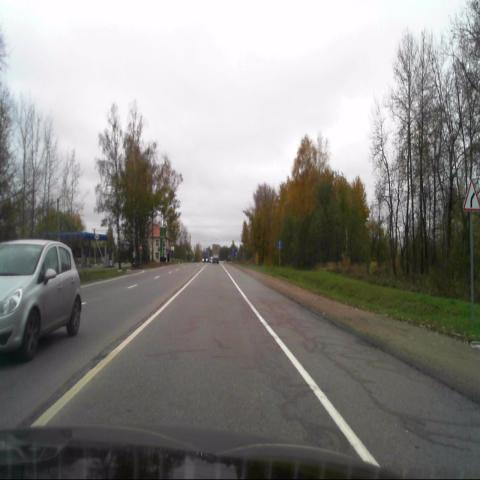1_11: (464, 179, 480, 212)
